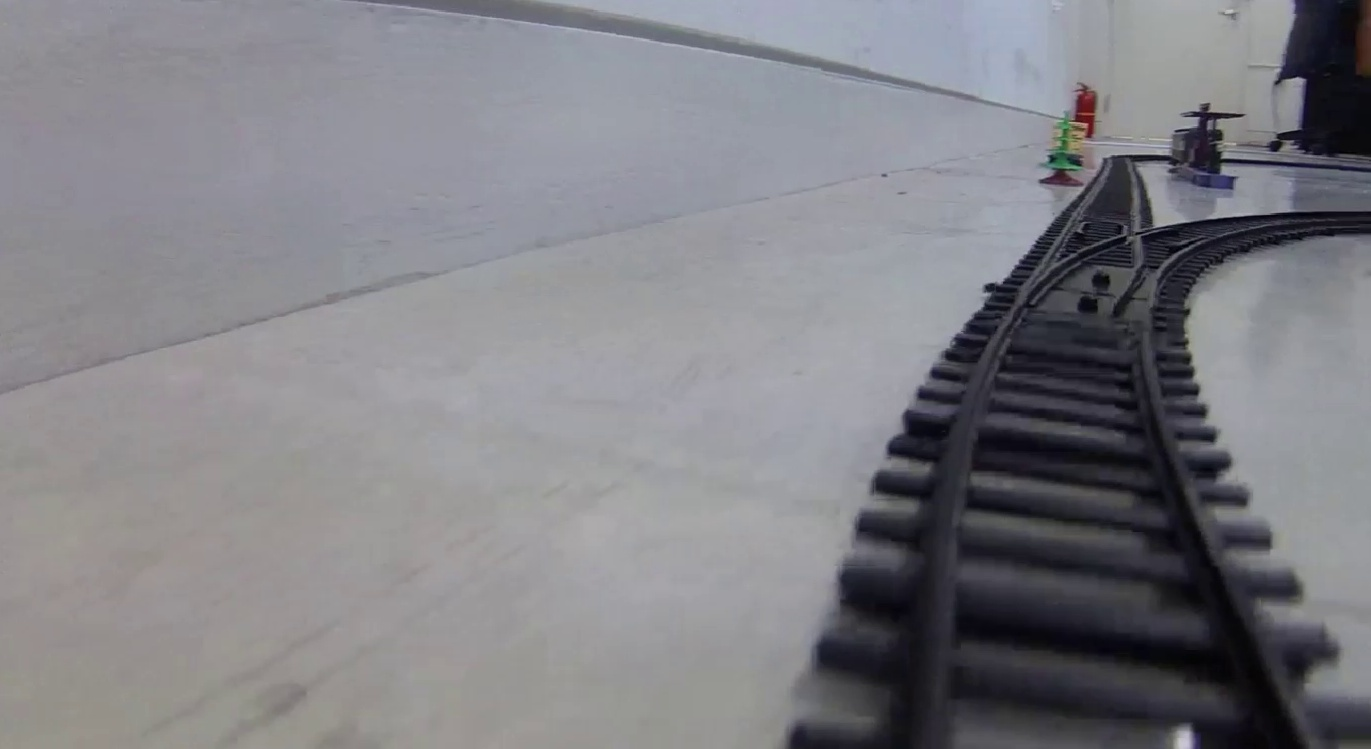tree: (1039, 110, 1087, 188)
